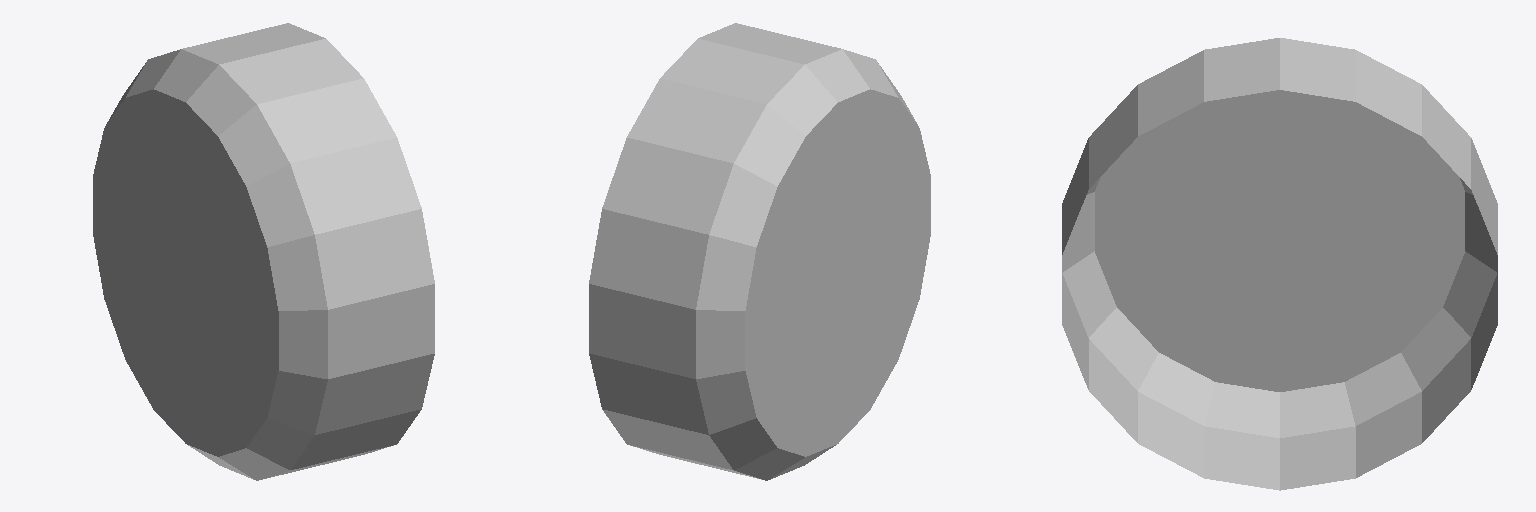
File: Tire front right unwrapped.obj
The picture shows the model from 3 angles: view 1: azimuth 30°, elevation 25°; view 2: azimuth 150°, elevation 25°; view 3: azimuth 270°, elevation 25°; orthographic projection.
Parts seen in each view (by area): view 1: Wheel_front_right; view 2: Wheel_front_right; view 3: Wheel_front_right.
Boxes of the visible parts, box(x1,y1,x2,y2) form: Wheel_front_right: box(93, 23, 434, 480); Wheel_front_right: box(589, 23, 930, 480); Wheel_front_right: box(1062, 38, 1497, 490).
Size of the model in its own units: 12.57 by 34.28 by 33.76.